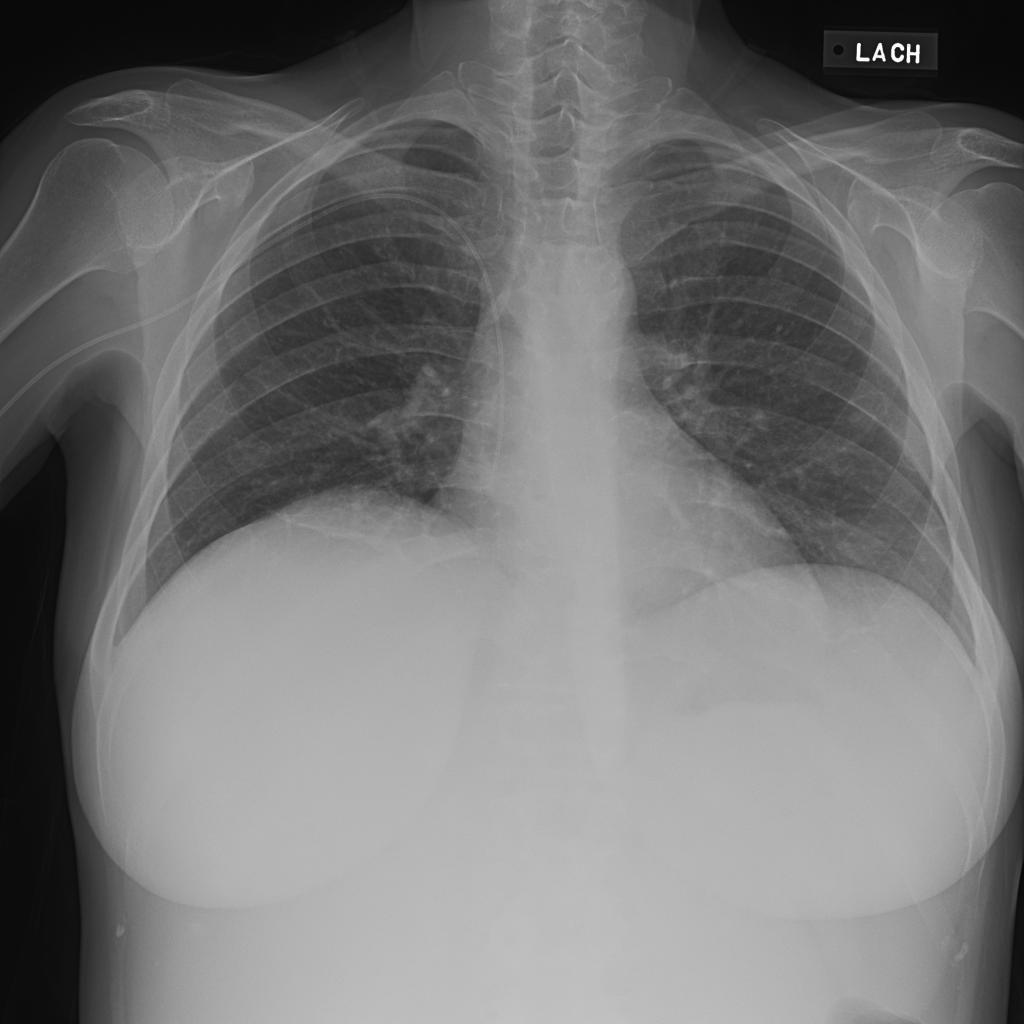Nodule: (351, 314, 406, 370)
